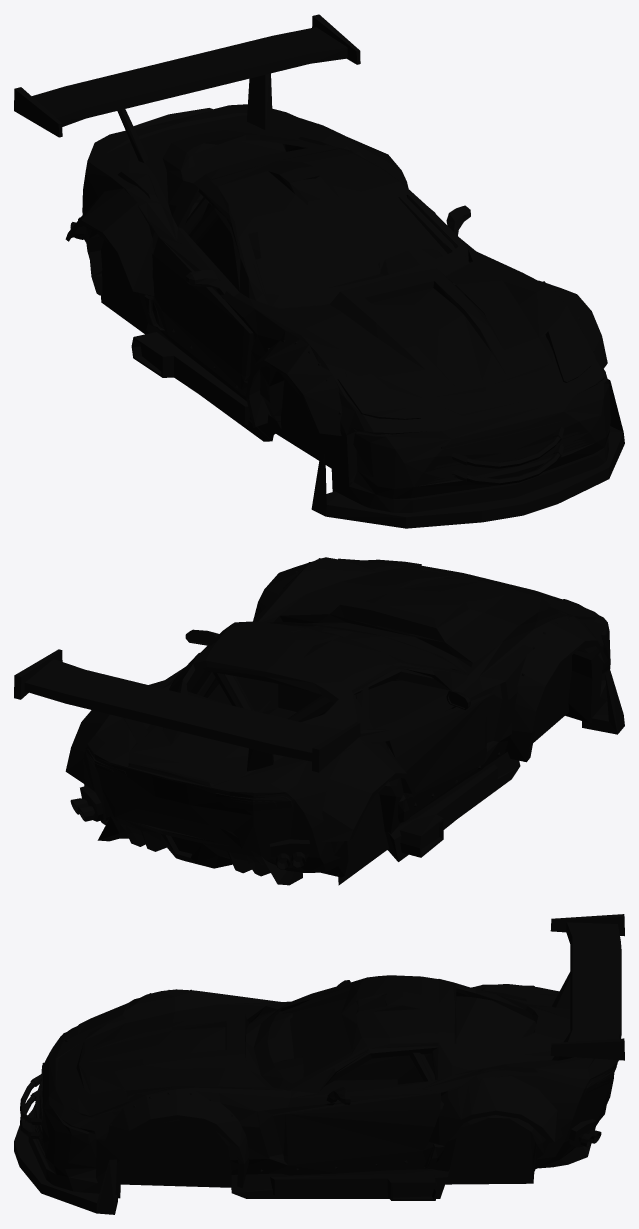
Rendered from car.glb.
3 renders of one model, top to bottom at view 1: azimuth 30°, elevation 25°; view 2: azimuth 150°, elevation 25°; view 3: azimuth 270°, elevation 25°, orthographic. The views are drawn at different scales.
Visible parts, largest first — view 1: car1.030; view 2: car1.030; view 3: car1.030.
Boxes of the visible parts, box(x1,y1,x2,y2) form: car1.030: box(14, 14, 624, 528); car1.030: box(14, 557, 624, 885); car1.030: box(14, 914, 624, 1214).
Size of the model in its own units: 0.0669 by 0.0423 by 0.1351.
Materials: 1 (1 with a texture image).
